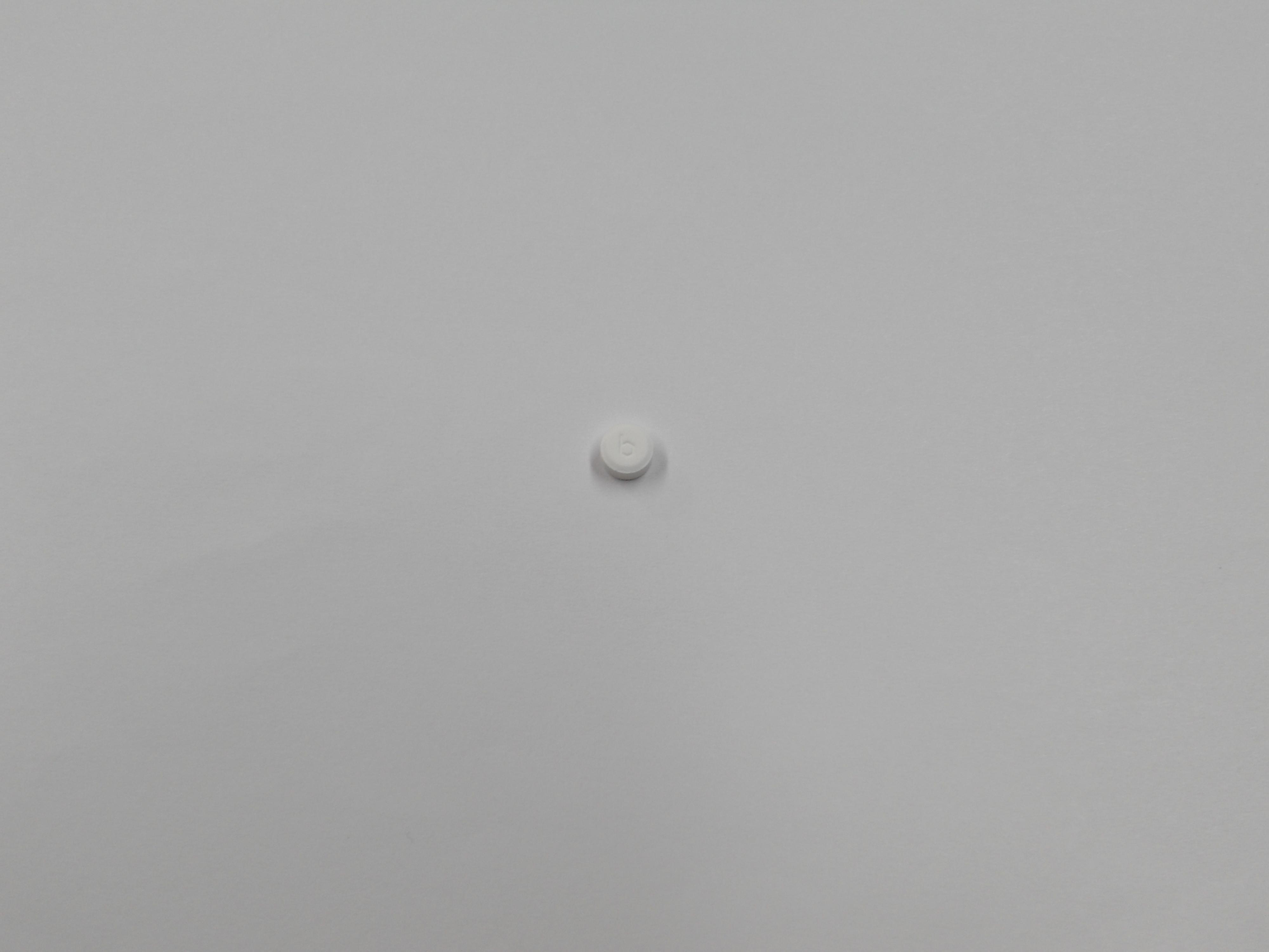Pill: (596, 419, 656, 484)
